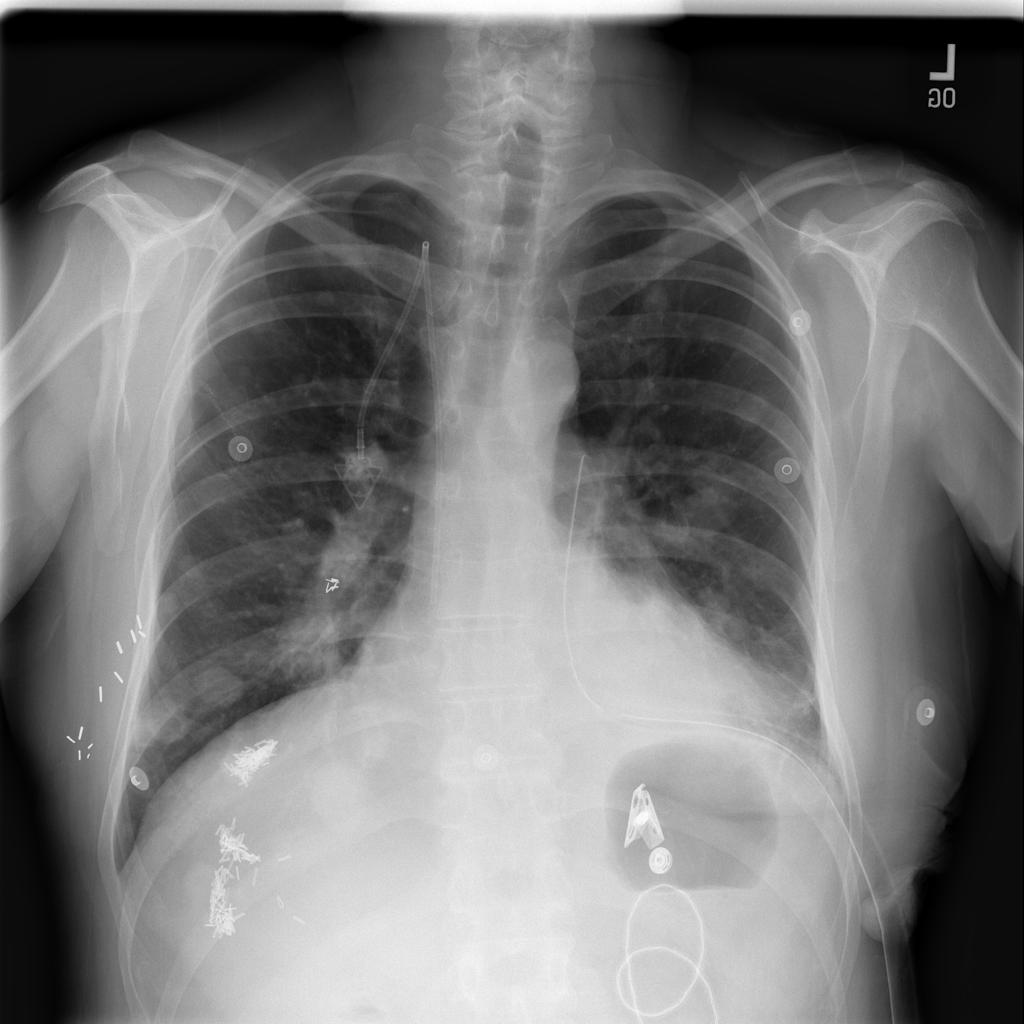nodule: (302, 754, 385, 832), (681, 585, 767, 652), (123, 686, 199, 756), (329, 424, 398, 498), (342, 696, 410, 771), (719, 370, 786, 443), (176, 654, 256, 715), (152, 571, 202, 622), (627, 274, 679, 323), (233, 299, 287, 346), (170, 535, 219, 585), (300, 273, 352, 319)
